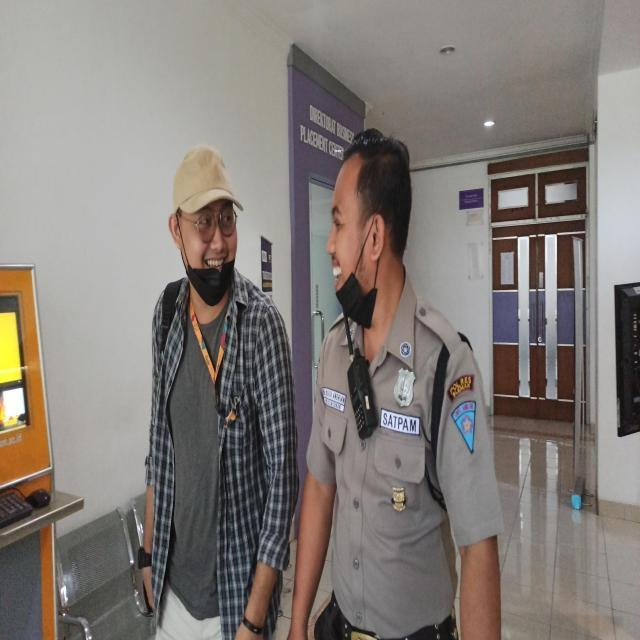hairnet: (302, 96, 430, 362), (157, 116, 252, 336)
